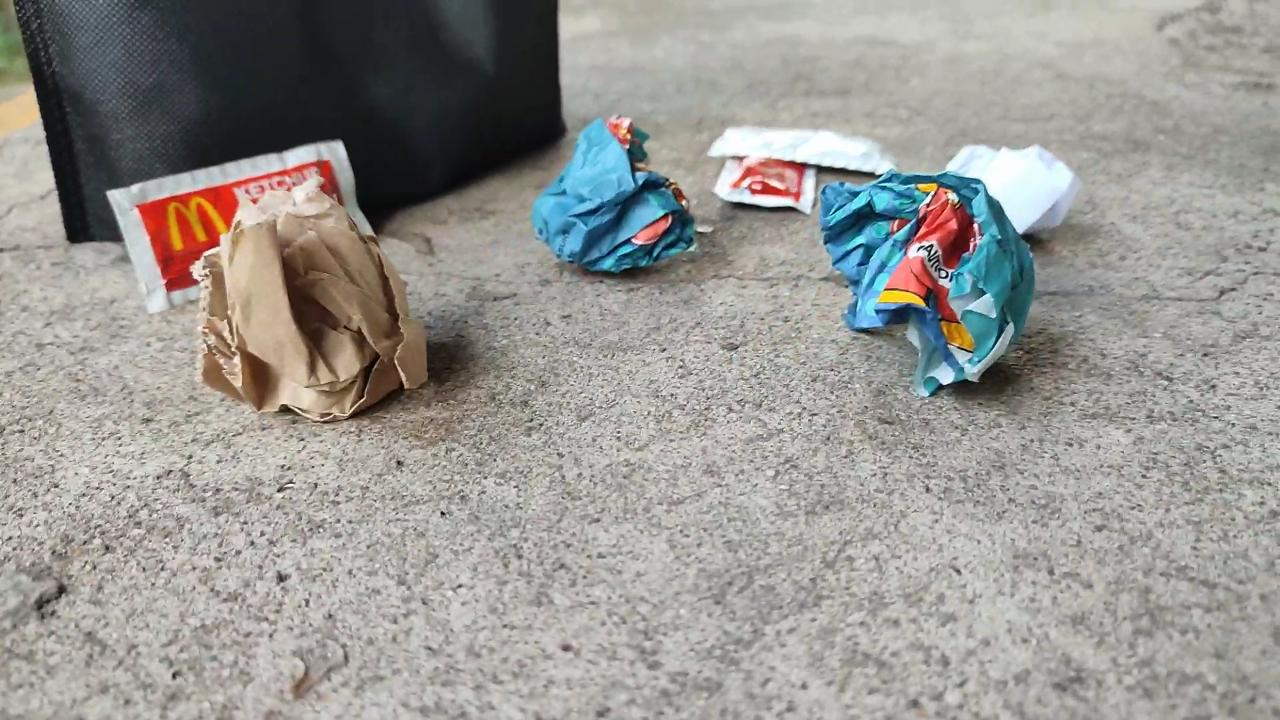Paper: (814, 159, 1044, 419), (192, 185, 433, 426), (516, 92, 716, 295), (937, 95, 1091, 251)
